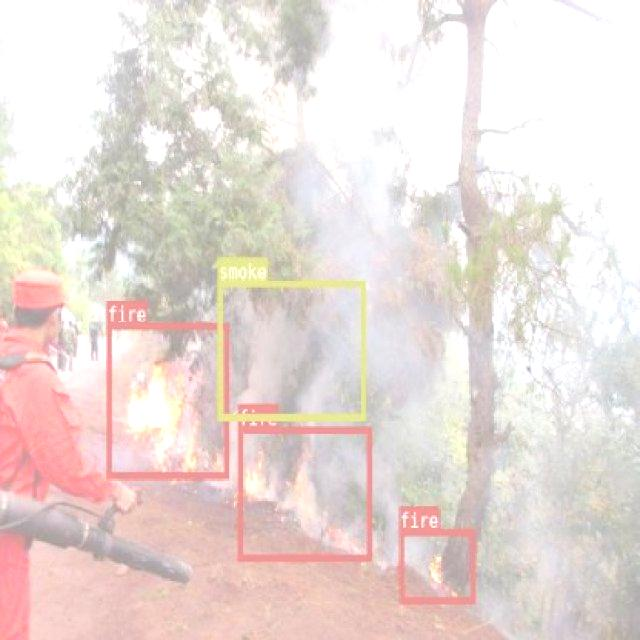fire: (106, 321, 228, 477), (237, 426, 371, 560), (398, 528, 474, 602)
smoke: (217, 280, 365, 418)
